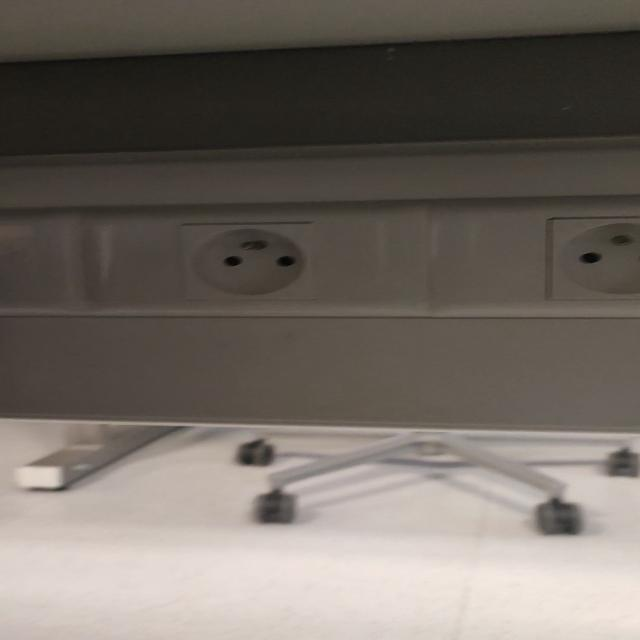house plug: (167, 222, 314, 300), (545, 215, 640, 302)
